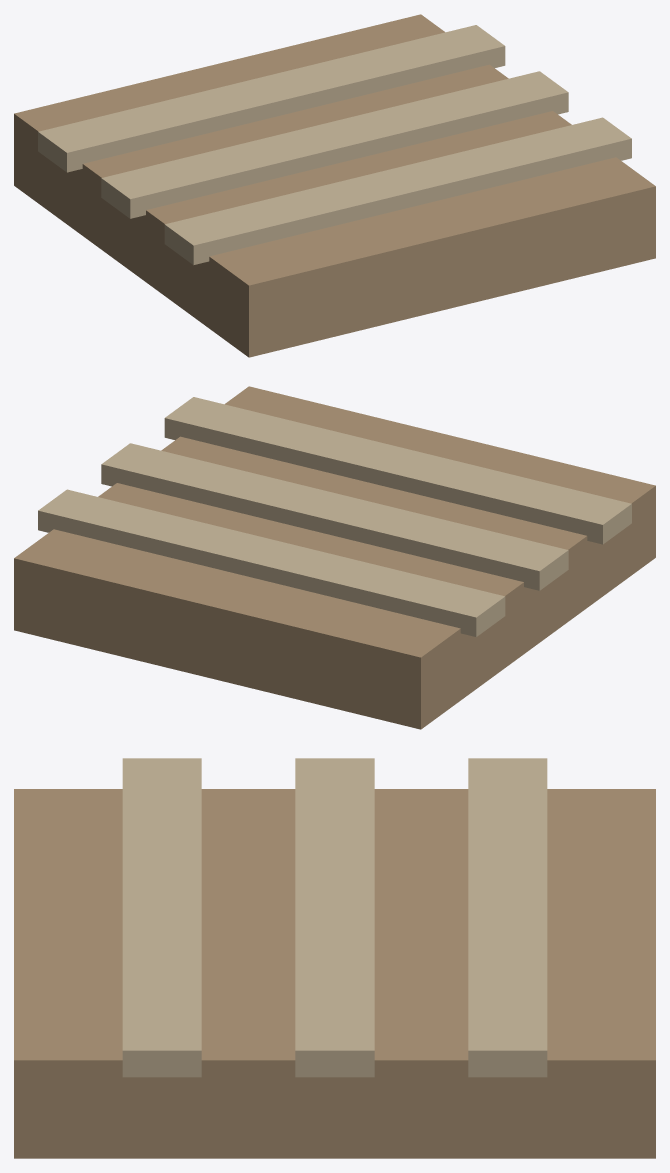
File: pallet.glb
3 renders of one model, top to bottom at view 1: azimuth 30°, elevation 25°; view 2: azimuth 150°, elevation 25°; view 3: azimuth 270°, elevation 25°, orthographic. The views are drawn at different scales.
Bounding box in the file's own units: 28 × 5.3 × 26.
